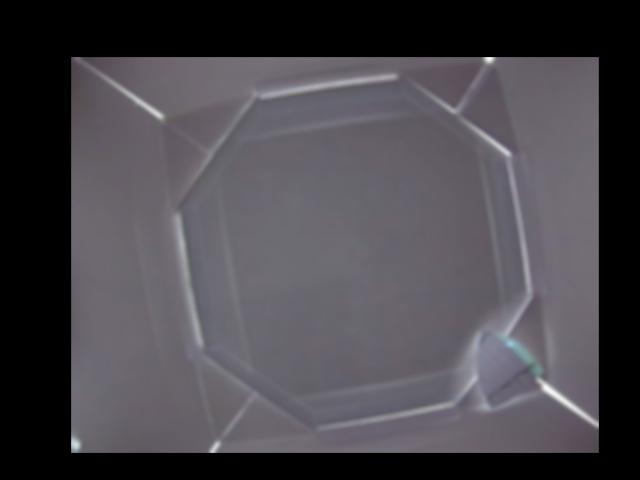China: (472, 324, 546, 408)
